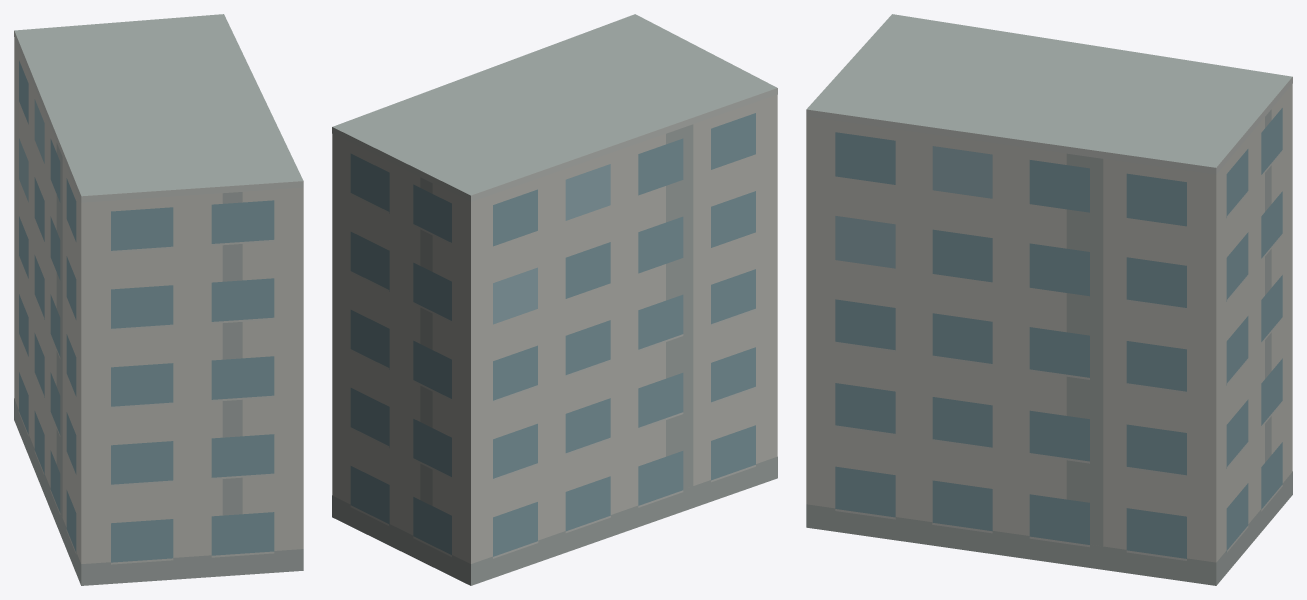
The model's file is survey-upis-33008579.glb.
The picture shows the model from 3 angles, left to right: view 1: azimuth 30°, elevation 25°; view 2: azimuth 150°, elevation 25°; view 3: azimuth 270°, elevation 25°; orthographic projection. The views are drawn at different scales.
Parts seen in each view (by area): view 1: survey-upis-33008579.tmp; view 2: survey-upis-33008579.tmp; view 3: survey-upis-33008579.tmp.
Boxes of the visible parts, box(x1,y1,x2,y2) form: survey-upis-33008579.tmp: box(14, 14, 303, 585); survey-upis-33008579.tmp: box(332, 14, 777, 585); survey-upis-33008579.tmp: box(806, 14, 1292, 585).
Bounding box in the file's own units: 11.33 × 14.35 × 15.14.
